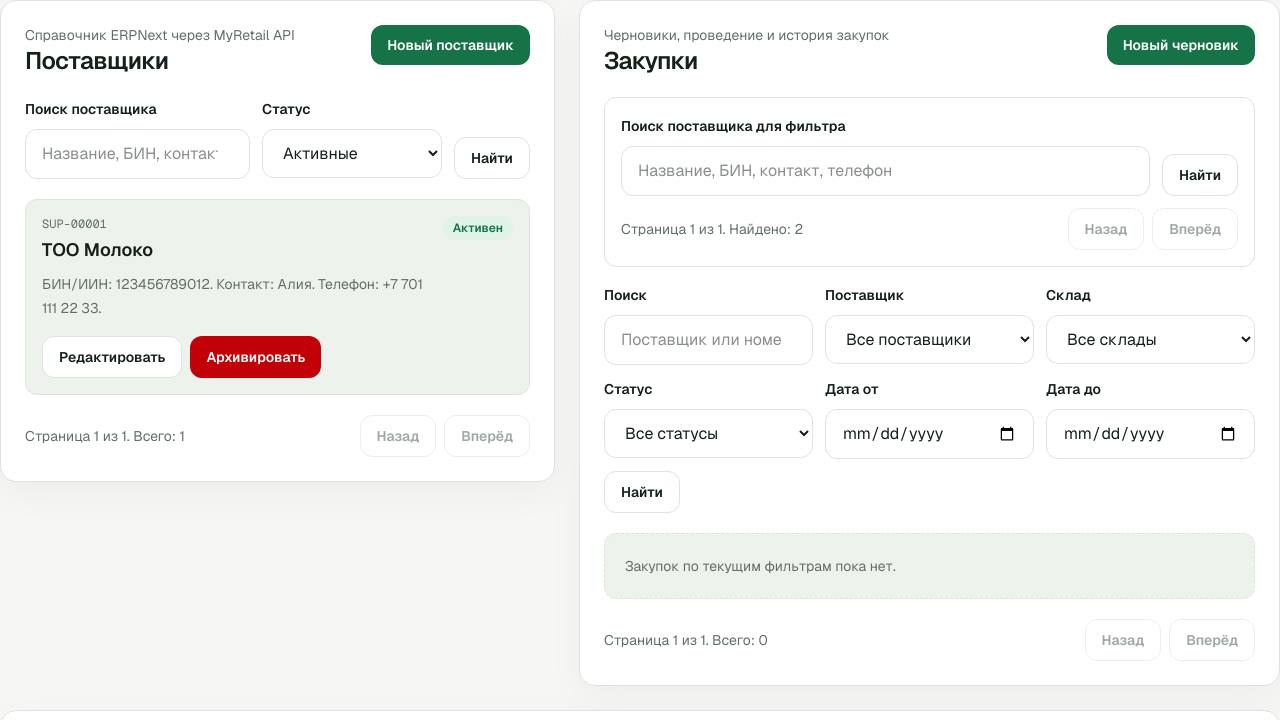
Test: PurchaseManager purchase review regressions › shows purchase loading, empty, error and retry states
Expected: the text "Закупок по текущим фильтрам пока нет." is shown, 604,533 -> 1255,599
Expected: the element "Закупки" is shown, 579,0 -> 1279,686
Step 1. Type "INV" into the search field labelled "Поиск" → point(708, 340), box 604,315 -> 813,365
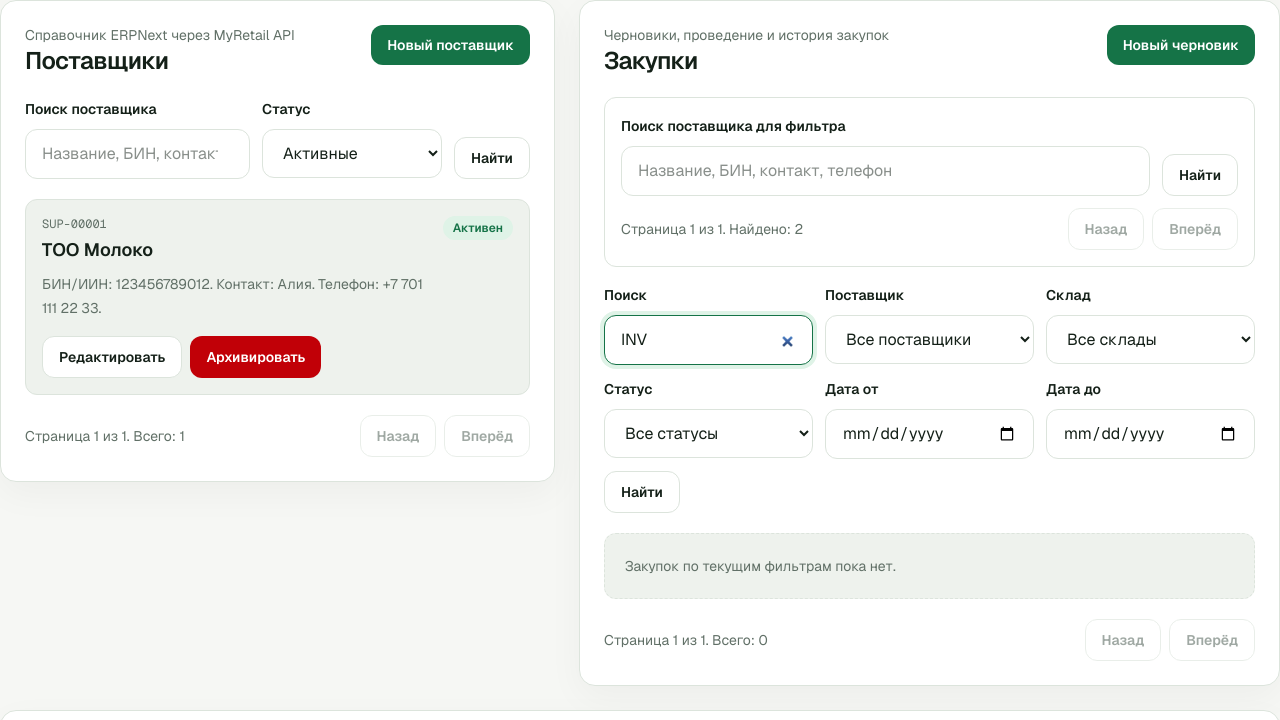
Step 2. Click the button "Найти" below "Дата от" → point(642, 492), box 604,471 -> 680,513
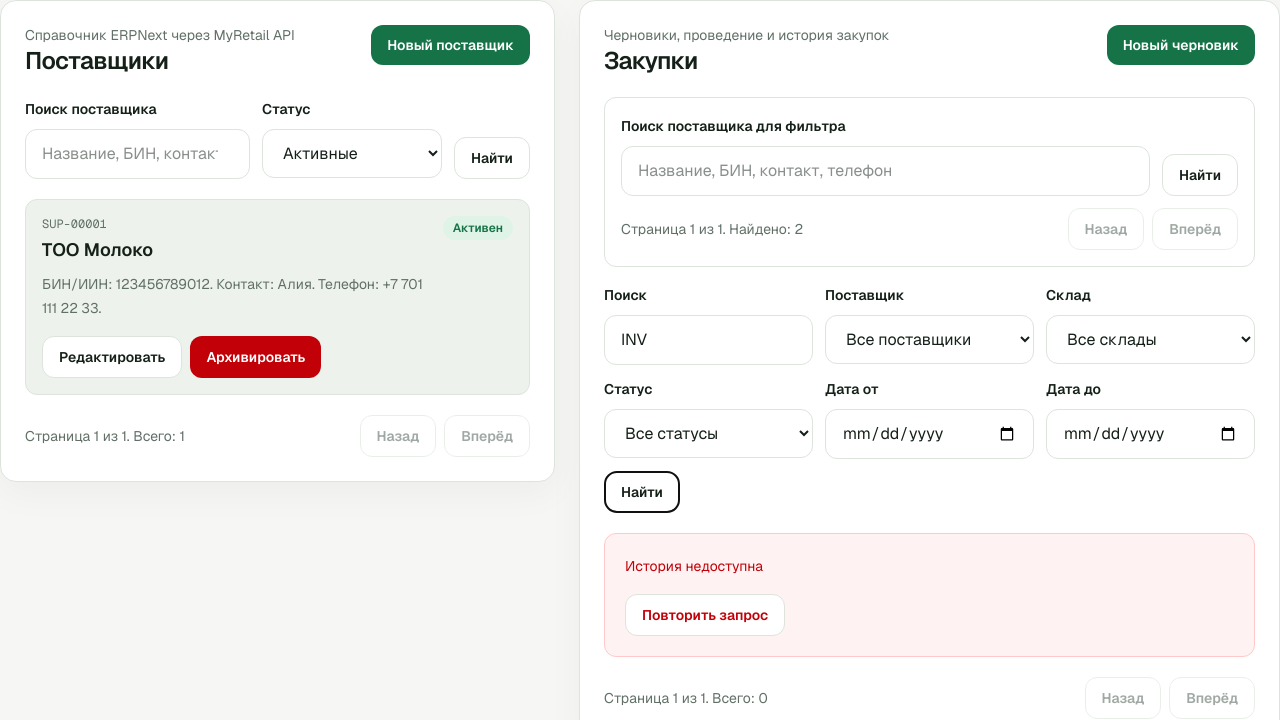
Result: the text "История недоступна" is shown at 625,557 -> 763,575
Step 3. Click the button "Повторить запрос" → point(705, 615), box 625,594 -> 785,636
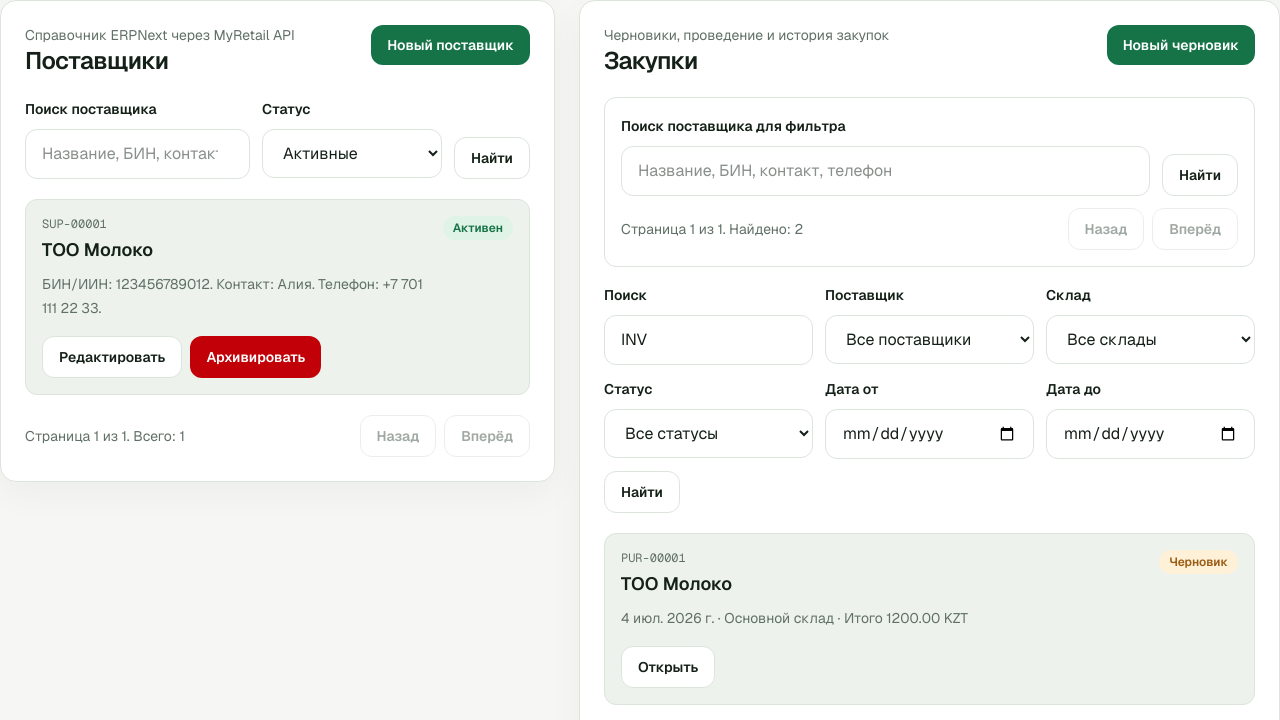
Result: the text "Итого 1200.00 KZT" is shown at 621,606 -> 968,630
